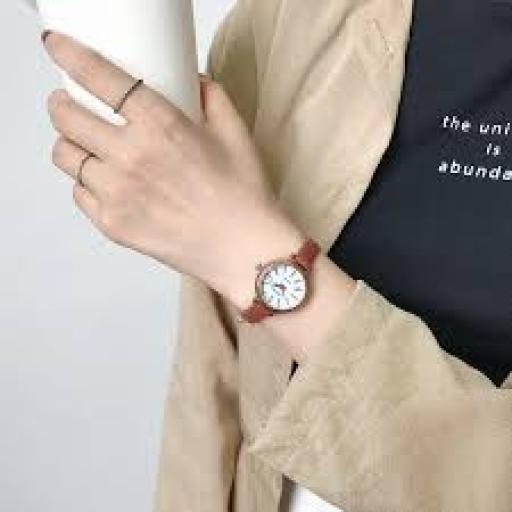KolSaati: (178, 210, 356, 339)
